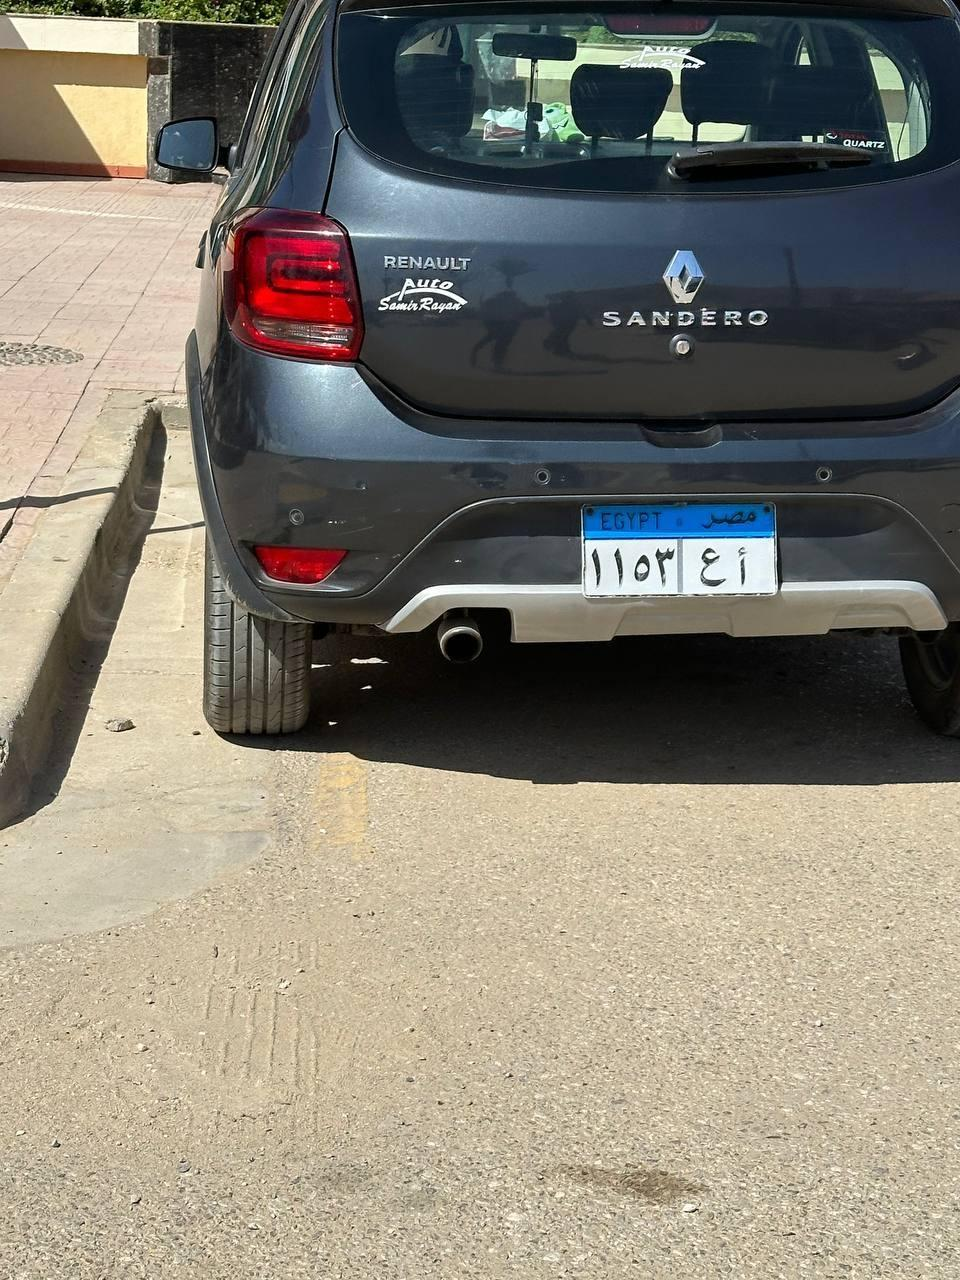1: (586, 548, 605, 592), (611, 546, 628, 592)
3: (654, 545, 674, 588)
5: (632, 554, 651, 585)
Een: (700, 544, 726, 586)
License Plate: (578, 500, 779, 598)
alef: (734, 544, 752, 586)
